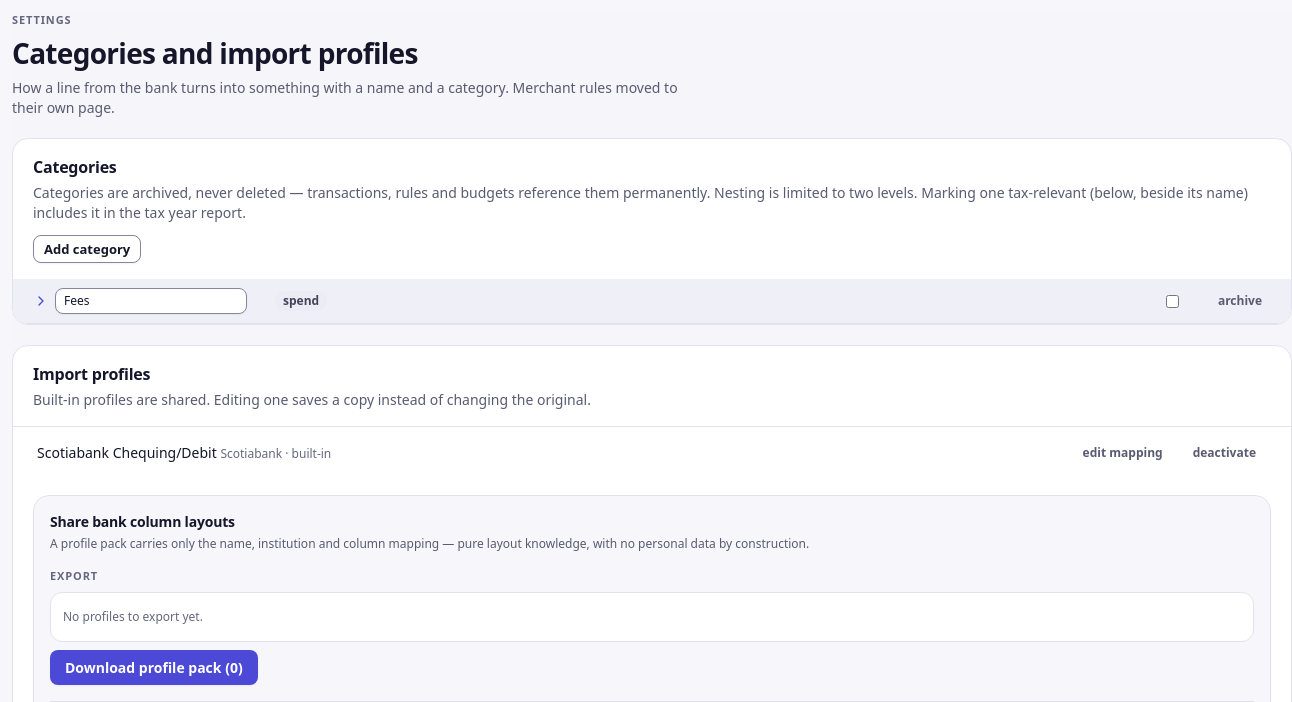
Test case: ManagersClient — the categories list folds like Budgets' Edit-limits list (2026-08-30 plan item 2) › clicking the chevron reveals the child, and renames the button to Collapse
Click the button named "Expand Fees".
click(41, 301)  # box [33, 293, 49, 309]
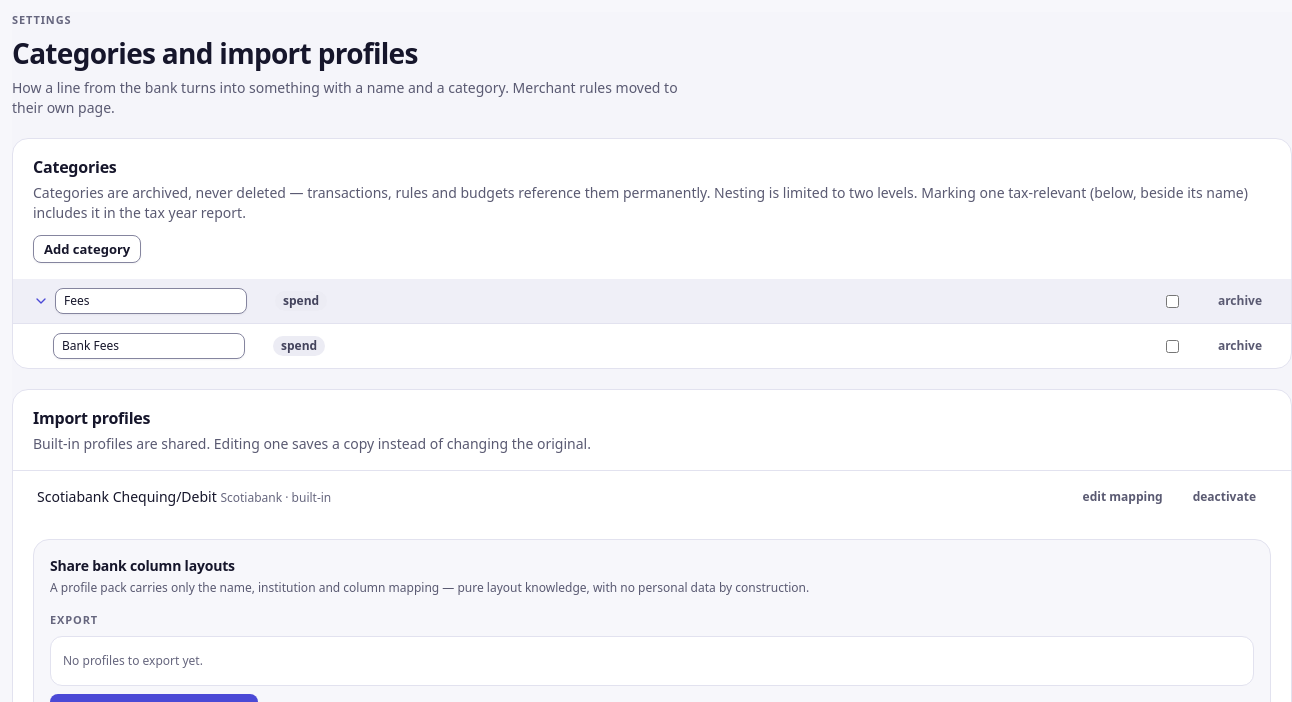
Expected: the button named "Collapse Fees" is expanded, [33, 293, 49, 309]
